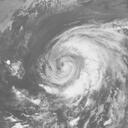cyclone: (38, 29, 104, 95)
